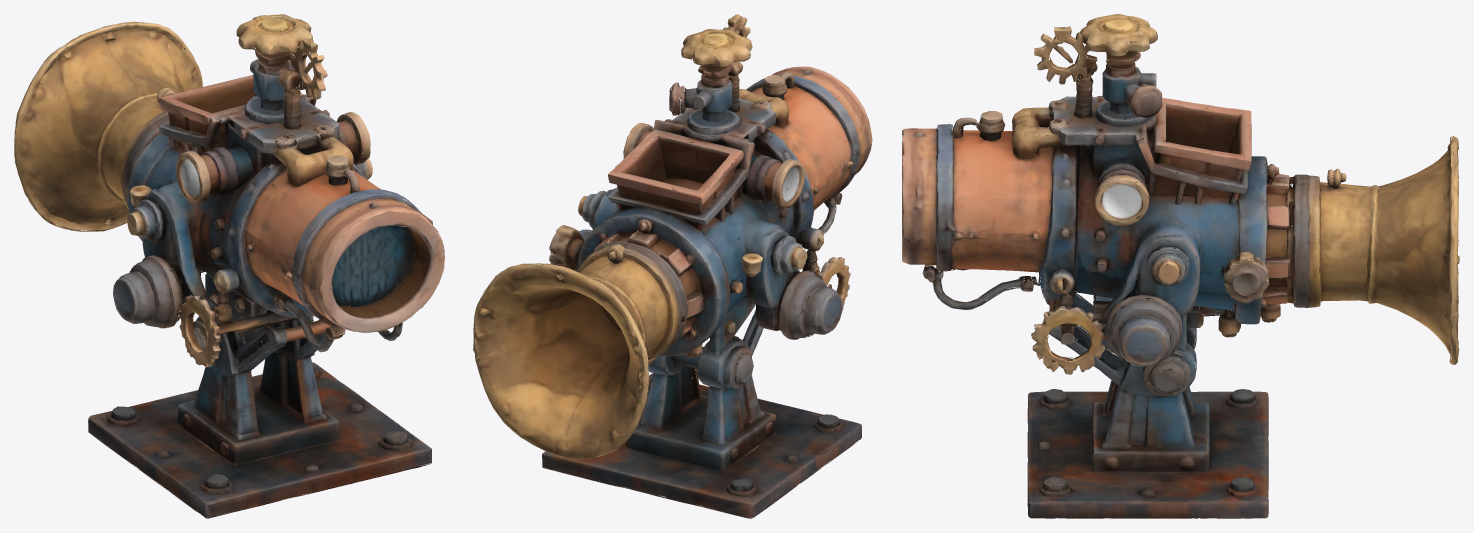
Rendered from cf_storm_blower.glb.
3 renders of one model, left to right at view 1: azimuth 30°, elevation 25°; view 2: azimuth 150°, elevation 25°; view 3: azimuth 270°, elevation 25°, orthographic. The views are drawn at different scales.
Parts seen in each view (by area): view 1: gun, base, head; view 2: gun, base, head; view 3: gun, base, head.
Boxes of the visible parts, left/top/right/bottom form: gun: left=14, top=14, right=444, bottom=366; base: left=88, top=358, right=431, bottom=518; head: left=186, top=310, right=326, bottom=408; gun: left=473, top=14, right=872, bottom=458; base: left=542, top=367, right=861, bottom=518; head: left=645, top=309, right=763, bottom=427; gun: left=901, top=14, right=1459, bottom=371; base: left=1027, top=381, right=1268, bottom=518; head: left=1050, top=304, right=1196, bottom=426.
Size of the model in its own units: 1.26 by 1.9 by 2.18.
1 material, 1 textured.
